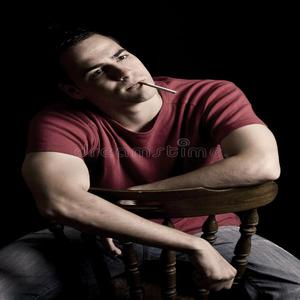cigarette: (139, 81, 178, 94)
